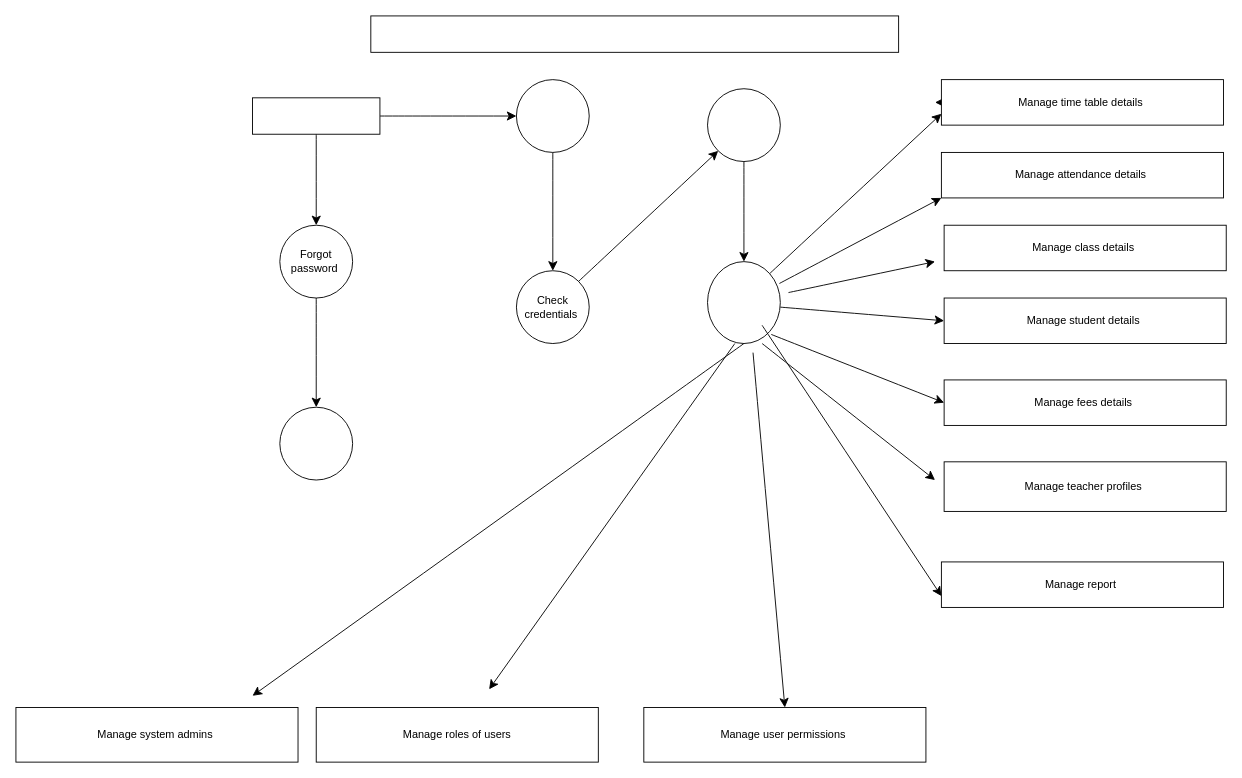
This 1242x778 diagram has some shape labels left out. Here are the shapes that lost their labels. From the top down, the centre of each, then its label:
At (634,33): "Student information system".
At (316,115): "Admin".
At (552,115): "Login to system".
At (743,125): "Check rules of access".
At (743,302): "Manage modules".
At (316,443): "Send Mail to user".
